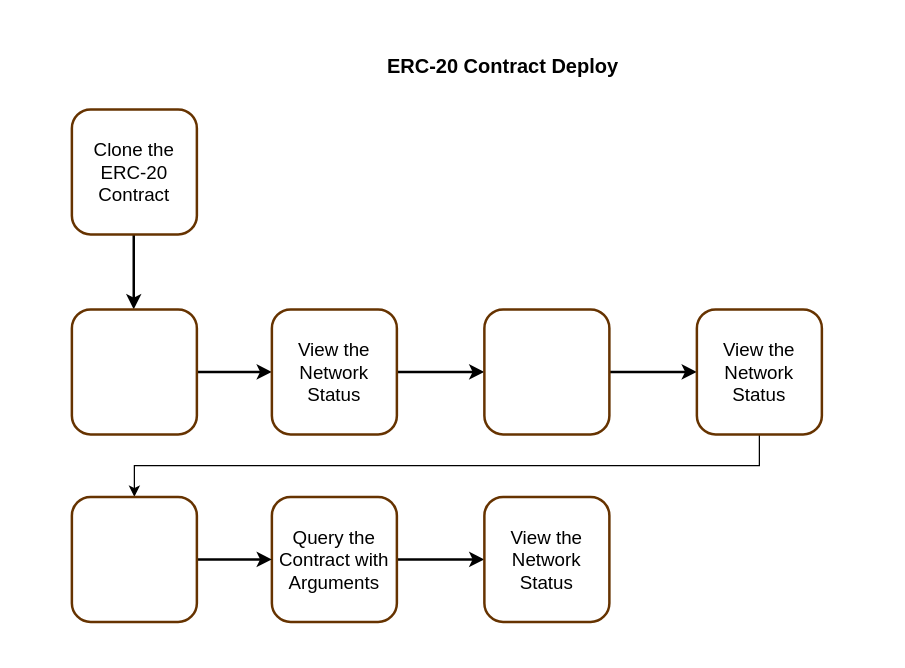
Some shapes in this 905 by 668 pixel diagram are drawn without their labels. Each missing label, with the centre of its shape:
"Deploy the ERC-20 Contract to the Network" goes at (x=546, y=371).
"Get a Testnet Peer Address" goes at (x=134, y=371).
"Verify the Deploy" goes at (x=134, y=558).
